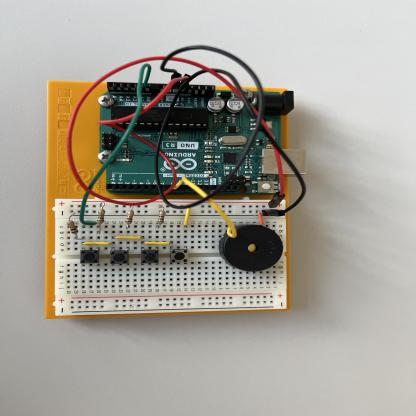5V: (66, 58, 286, 207)
ARDUINO: (100, 86, 287, 196)
Breadboard: (55, 199, 288, 316)
Button: (110, 248, 128, 264), (79, 249, 98, 264), (141, 248, 158, 264), (170, 249, 188, 264)
GND: (155, 68, 258, 212), (159, 45, 264, 121)
Long wire: (207, 198, 237, 238), (173, 176, 208, 198)
Piezo: (219, 224, 283, 272)
Resistor: (66, 213, 78, 239), (96, 202, 105, 225), (124, 207, 134, 225), (156, 207, 165, 225)
Short wire: (183, 208, 190, 227), (113, 236, 141, 240), (257, 212, 264, 226), (83, 242, 109, 245), (144, 242, 169, 245)
